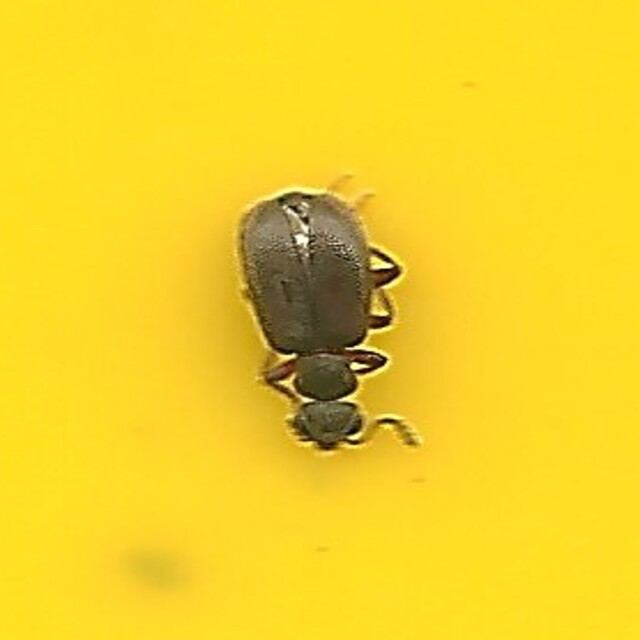Coleoptera: (230, 184, 410, 456)
